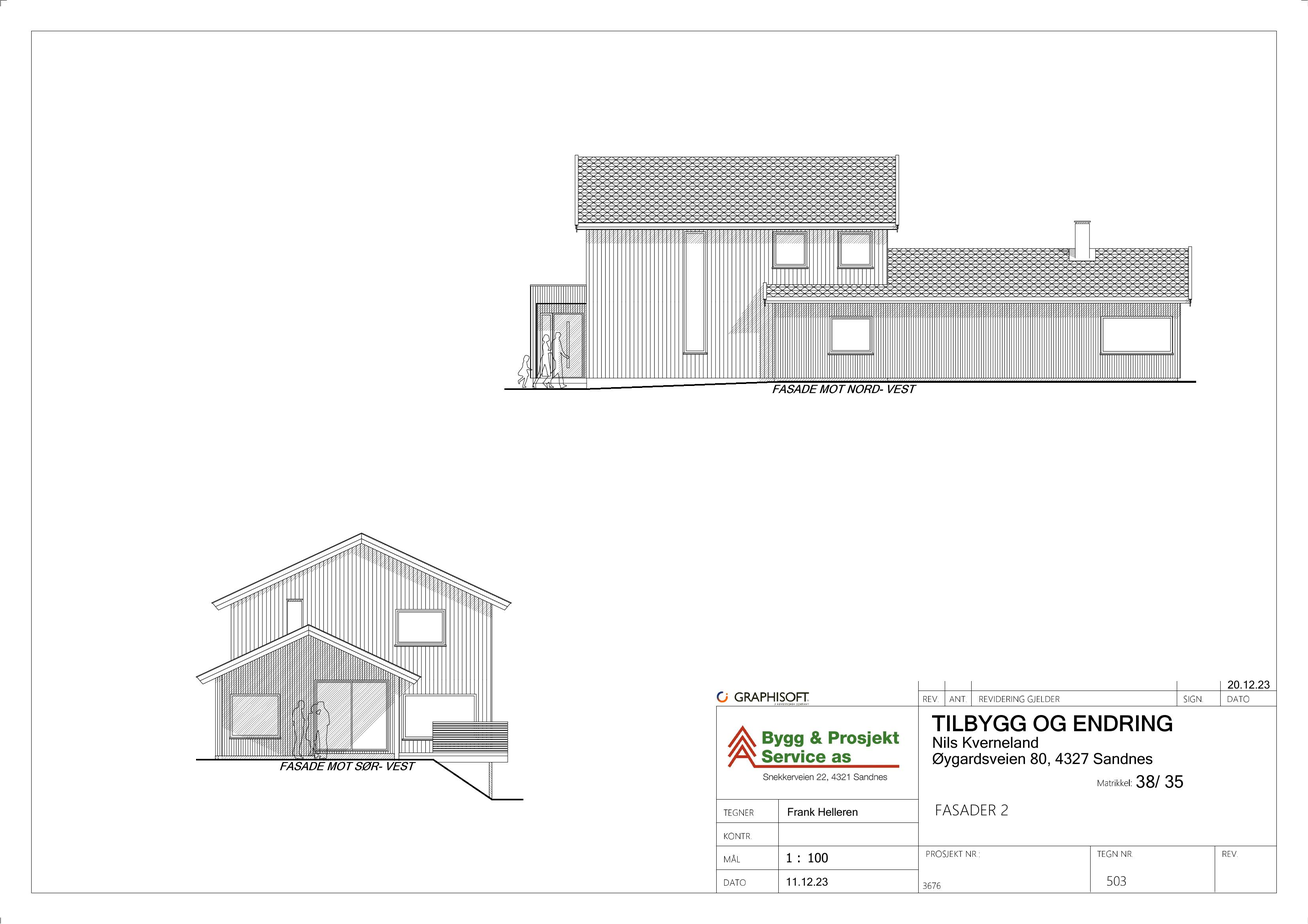fasade: (528, 152, 1196, 393), (193, 529, 512, 807)
